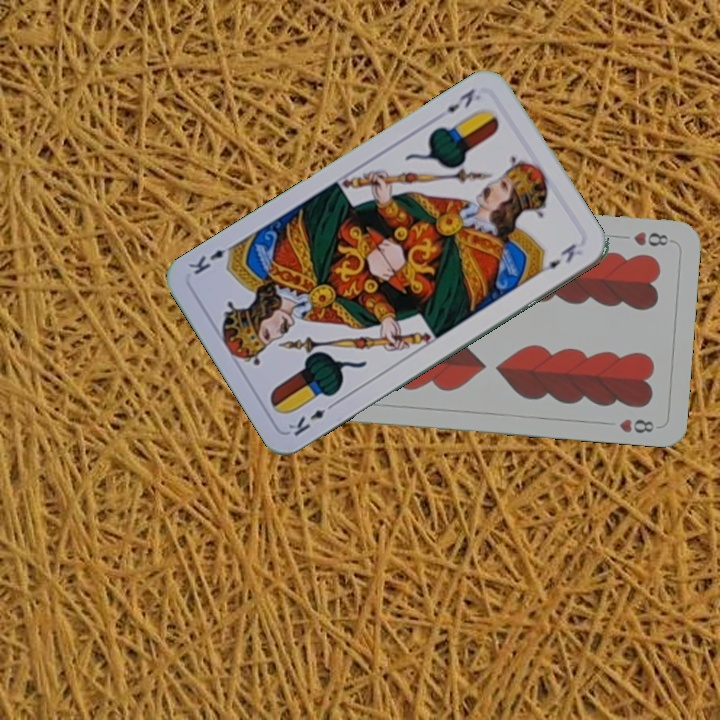EK: (284, 398, 339, 439), (442, 84, 478, 116)
H8: (629, 227, 675, 249)
